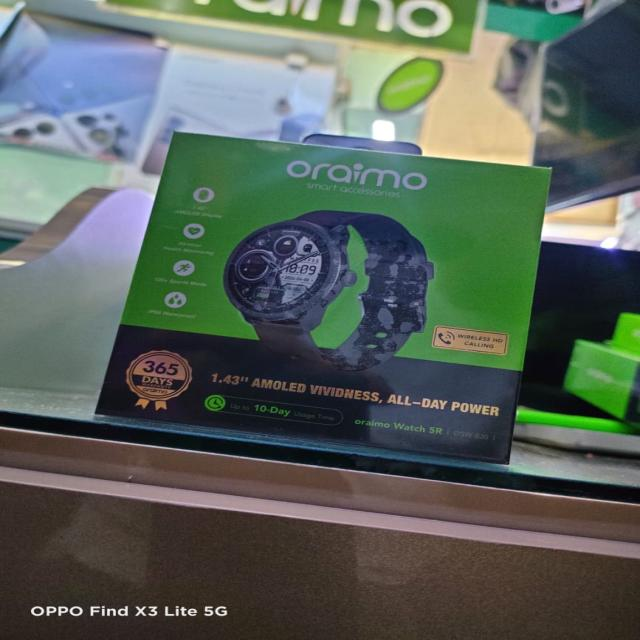Oraimo Watch 5R OSW-820: (355, 419, 497, 442)
